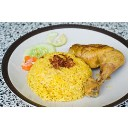briyani: (31, 43, 126, 102)
